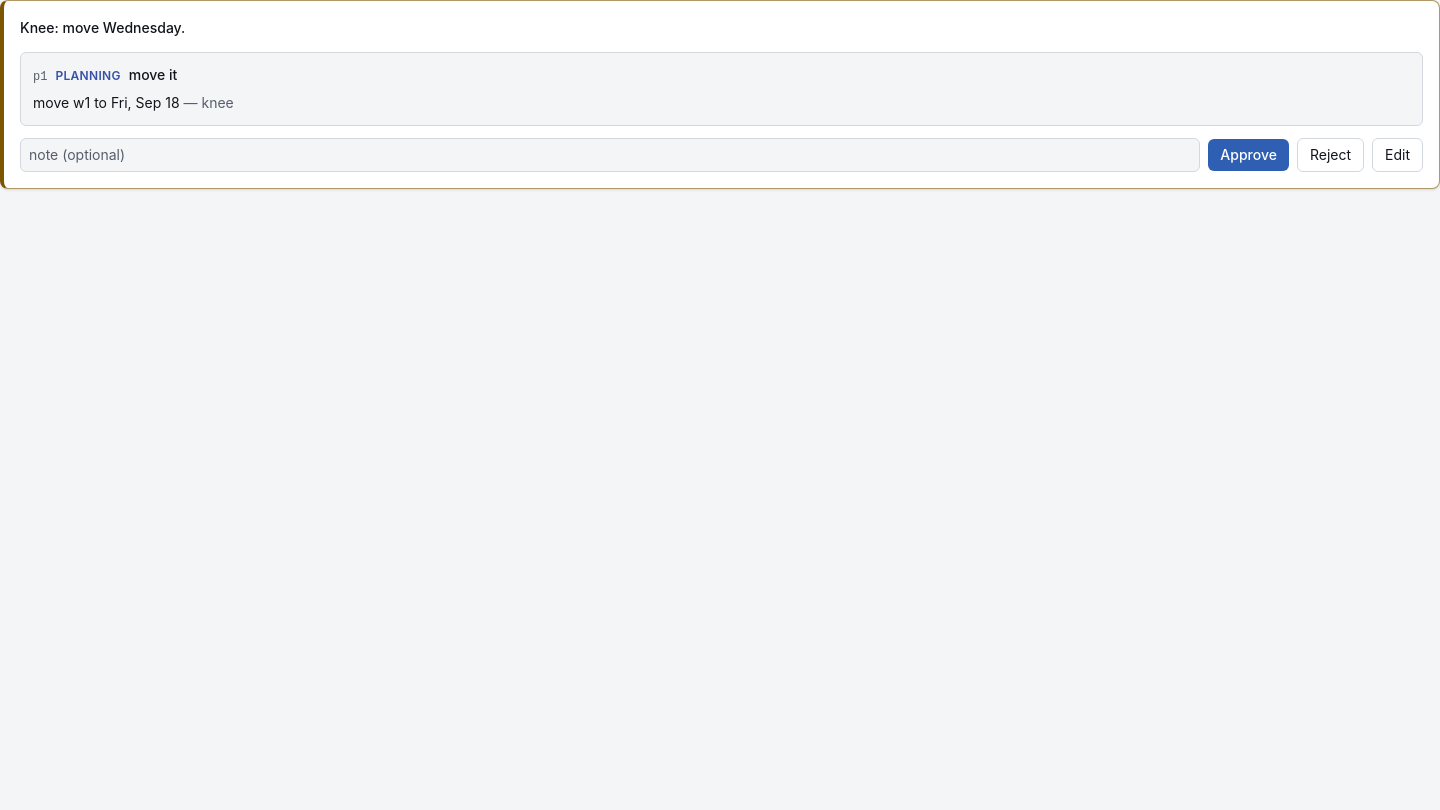
a validate response landing after a 422 keeps the 422's field errors
This screenshot has width=1440, height=810.
Click the button "Edit".
click(1398, 155)  # box [1372,138,1423,172]
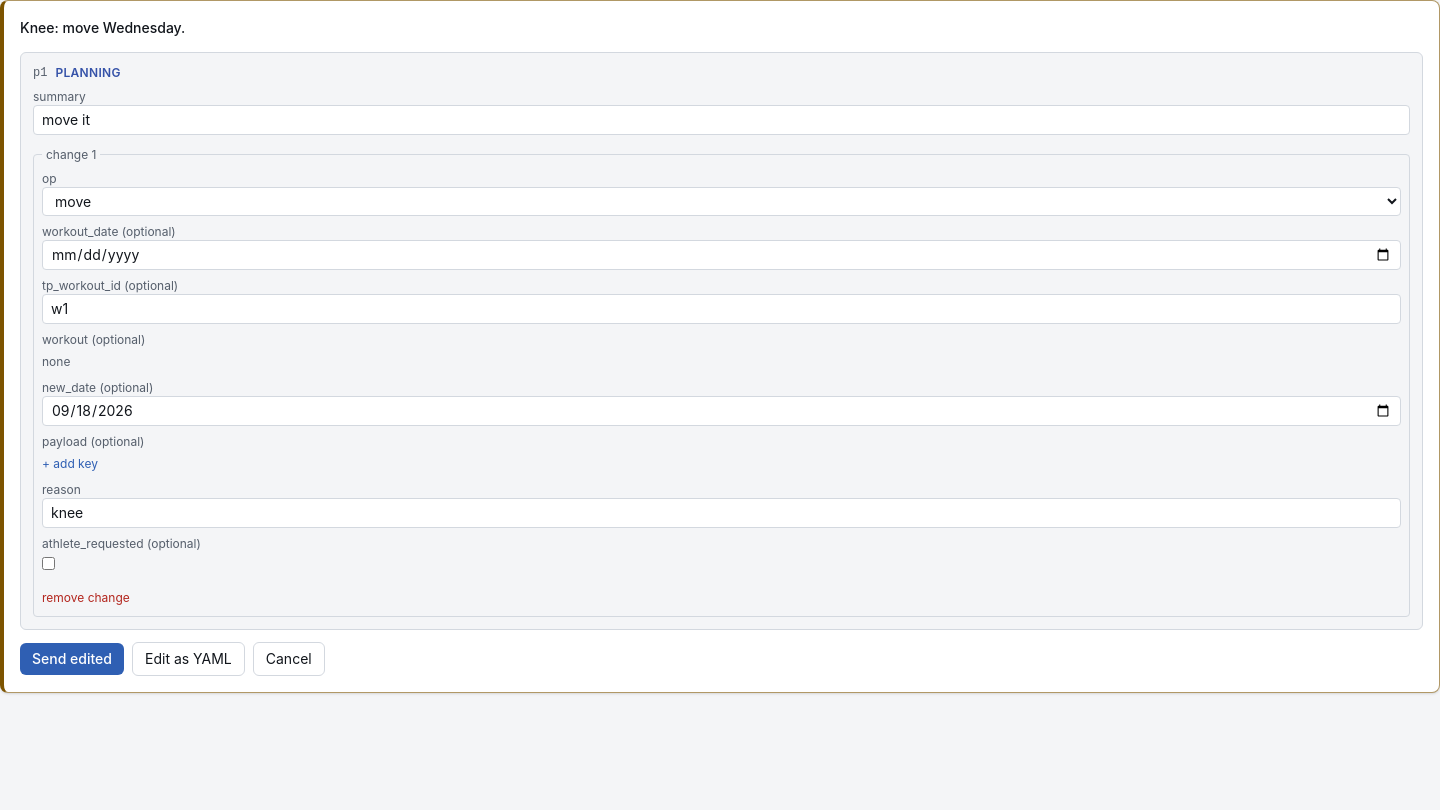
Type "2026-09-19" into the date field labelled "new_date".
click(722, 411); type("2026-09-19")  # box [42,396,1401,426]
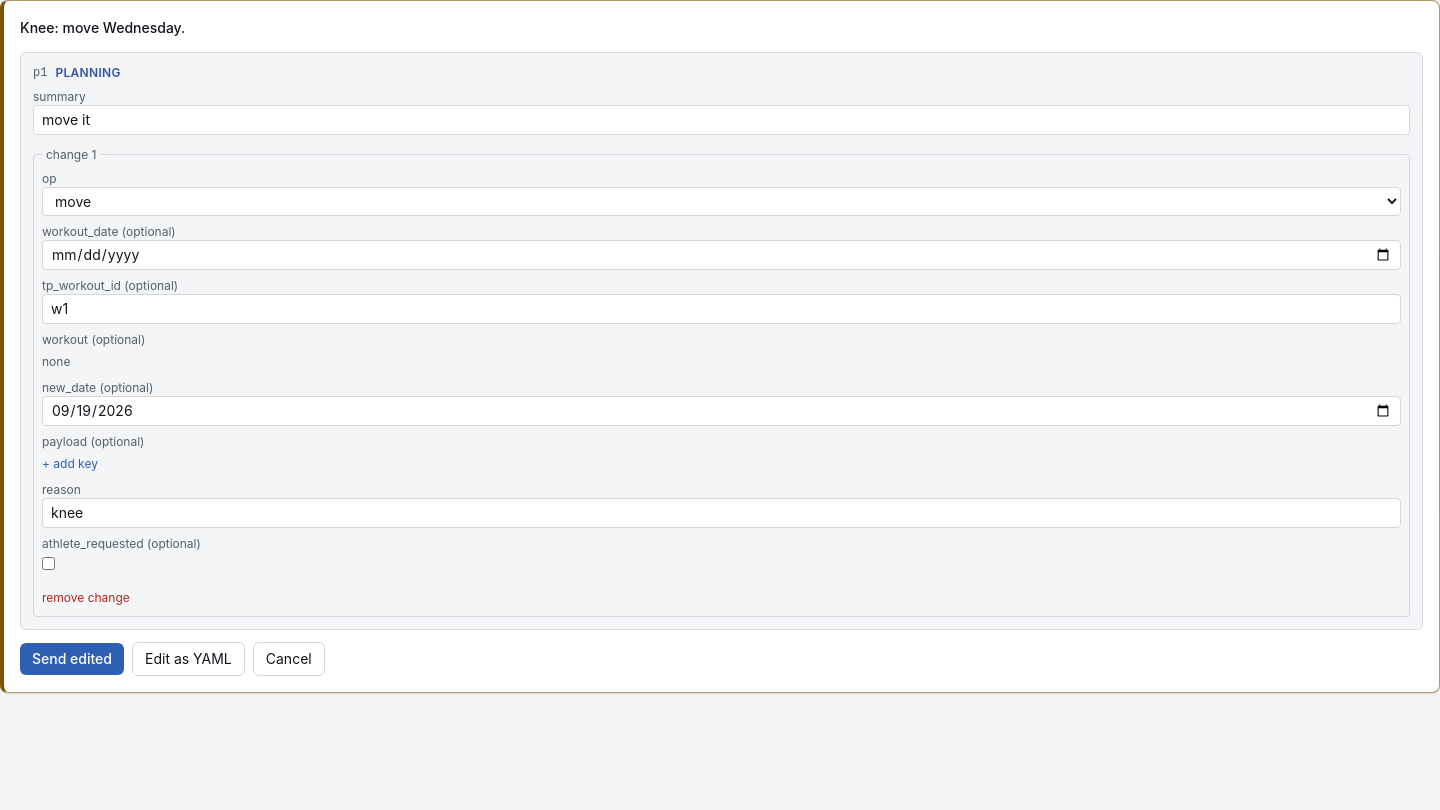
Click the button "Send edited".
click(72, 659)  # box [20,643,124,675]
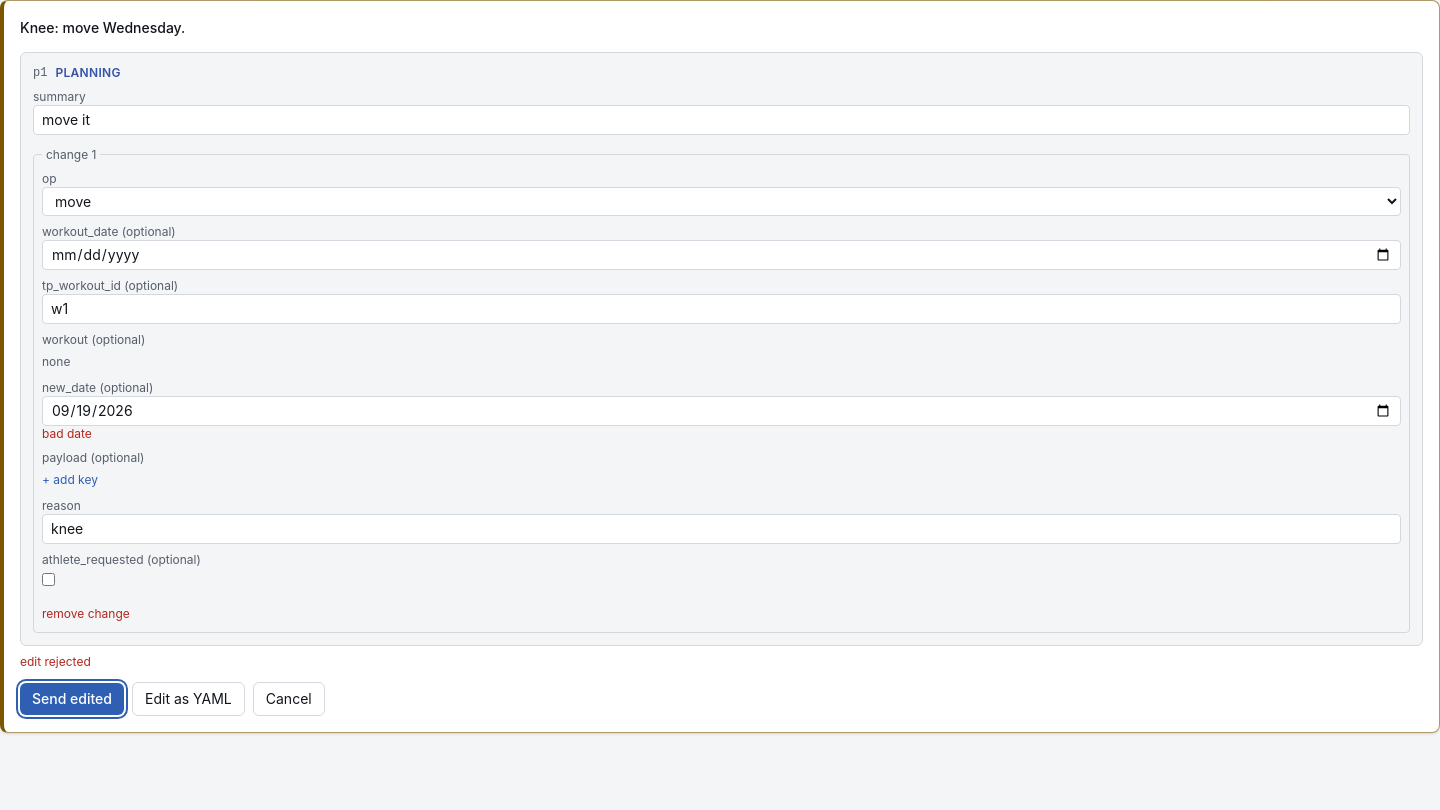
expect the text "bad date" is shown: met, box [42,426,92,441]
expect the text "edit rejected" is shown: met, box [20,654,91,669]
